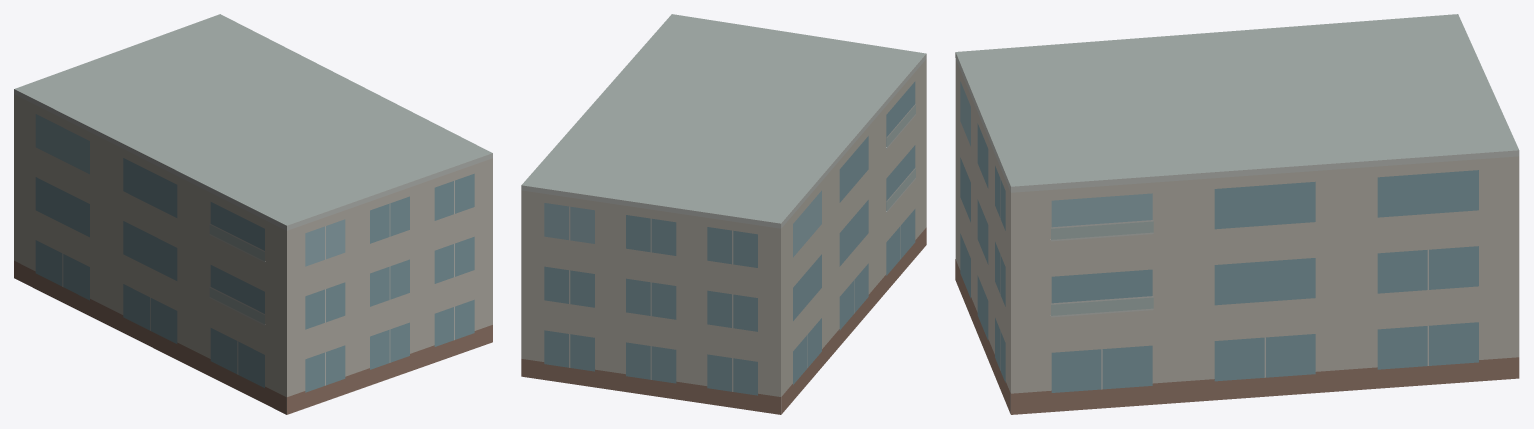
The model's file is survey-upis-32700440.glb.
The picture shows the model from 3 angles, left to right: view 1: azimuth 30°, elevation 25°; view 2: azimuth 150°, elevation 25°; view 3: azimuth 270°, elevation 25°; orthographic projection. The views are drawn at different scales.
Parts seen in each view (by area): view 1: survey-upis-32700440.tmp; view 2: survey-upis-32700440.tmp; view 3: survey-upis-32700440.tmp.
Part boxes in pixels (x1=…): survey-upis-32700440.tmp: x1=14, y1=14, x2=492, y2=414; survey-upis-32700440.tmp: x1=521, y1=14, x2=926, y2=414; survey-upis-32700440.tmp: x1=955, y1=14, x2=1519, y2=414.
Size of the model in its own units: 14.87 by 9.15 by 20.51.
